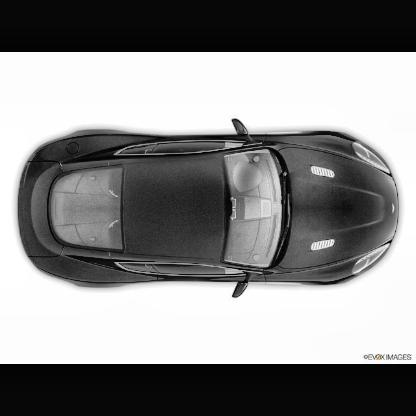Aston Martin Virage Coupe 2012: (14, 116, 404, 304)
